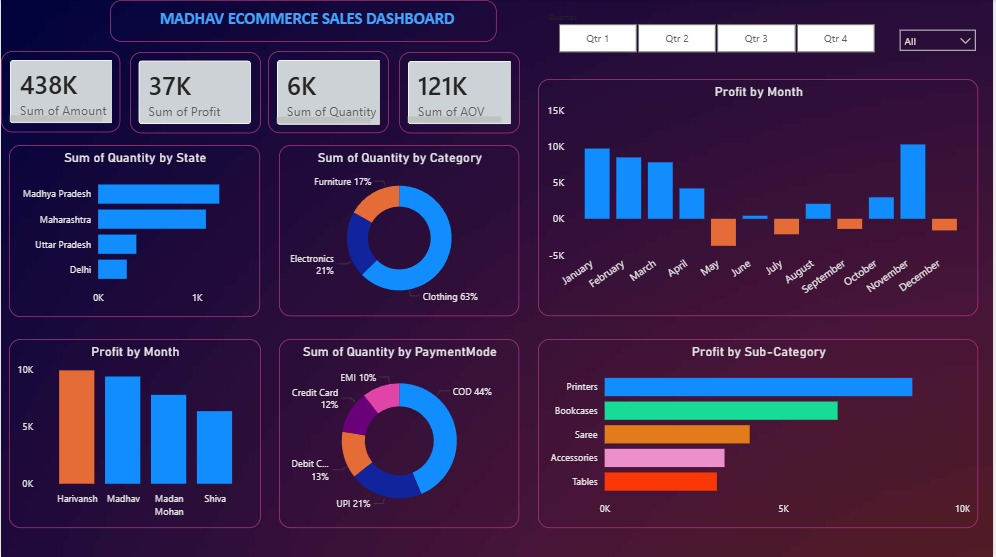

The page's visual inventory and layout, read from the dashboard file:
{"tool":"powerbi","page":{"name":"Page 1","canvas":[1280,720],"ordinal":0},"visuals":[{"type":"textbox","box":[141.1,0,498.9,53.8],"z":0},{"type":"columnChart","title":"Profit by Month","fields":{"Y":["Sum(Details.Profit)"],"Category":["Orders.Order Date.Variation.Date Hierarchy.Month"]},"box":[693.1,102,568.3,306.1],"z":1000},{"type":"barChart","title":"Profit by Sub-Category","fields":{"Category":["Details.Sub-Category"],"Y":["Sum(Details.Profit)"]},"box":[693.1,438,568.3,243.8],"z":2000},{"type":"donutChart","fields":{"Y":["Sum(Details.Quantity)"],"Category":["Details.Category"]},"box":[358.6,187.1,310.4,221.1],"z":3000},{"type":"donutChart","fields":{"Y":["Sum(Details.Quantity)"],"Category":["Details.PaymentMode"]},"box":[358.6,438,310.4,243.8],"z":4000},{"type":"barChart","fields":{"Category":["Orders.State"],"Y":["Sum(Details.Quantity)"]},"box":[10.1,186.5,324.2,221.7],"z":5000},{"type":"cardVisual","fields":{"Data":["Sum(Details.Amount)"]},"box":[0,65.2,154.5,104.9],"z":6000},{"type":"columnChart","title":"Profit by Month","fields":{"Category":["Orders.CustomerName"],"Y":["Sum(Details.Amount)"]},"box":[9.9,438,324.6,243.8],"z":7000},{"type":"cardVisual","fields":{"Data":["Sum(Details.Profit)"]},"box":[165.8,66.6,168.7,104.9],"z":8000},{"type":"cardVisual","fields":{"Data":["Sum(Details.Quantity)"]},"box":[344.4,65.2,155.9,106.3],"z":9000},{"type":"cardVisual","fields":{"Data":["Sum(Details.AOV)"]},"box":[513.1,66.6,155.9,104.9],"z":10000},{"type":"slicer","fields":{"Values":["Orders.Order Date.Variation.Date Hierarchy.Quarter"]},"box":[693.8,10.1,456.9,63.8],"z":11000},{"type":"slicer","fields":{"Values":["Orders.State"]},"box":[1149.4,28.3,117.6,45.4],"z":12000}]}

Visuals, with their boxes in screenshot pixels (x1, y1, x2, y2), scaled from the page's 1280x720 canvas onto the 996x557 screenshot:
textbox: bbox=[110, 0, 498, 42]
"Profit by Month" columnChart: bbox=[539, 79, 982, 316]
"Profit by Sub-Category" barChart: bbox=[539, 339, 982, 527]
donutChart - Sum(Details.Quantity) x Details.Category: bbox=[279, 145, 521, 316]
donutChart - Sum(Details.Quantity) x Details.PaymentMode: bbox=[279, 339, 521, 527]
barChart - Orders.State x Sum(Details.Quantity): bbox=[8, 144, 260, 316]
cardVisual - Sum(Details.Amount): bbox=[0, 50, 120, 132]
"Profit by Month" columnChart: bbox=[8, 339, 260, 527]
cardVisual - Sum(Details.Profit): bbox=[129, 52, 260, 133]
cardVisual - Sum(Details.Quantity): bbox=[268, 50, 389, 133]
cardVisual - Sum(Details.AOV): bbox=[399, 52, 521, 133]
slicer - Orders.Order Date.Variation.Date Hierarchy.Quarter: bbox=[540, 8, 895, 57]
slicer - Orders.State: bbox=[894, 22, 986, 57]
